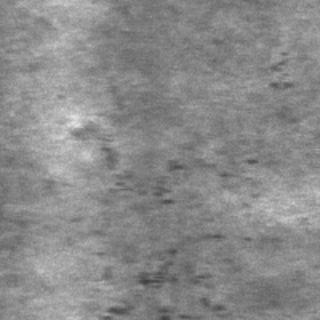rolled pit: (90, 140, 226, 318), (260, 29, 296, 91)
